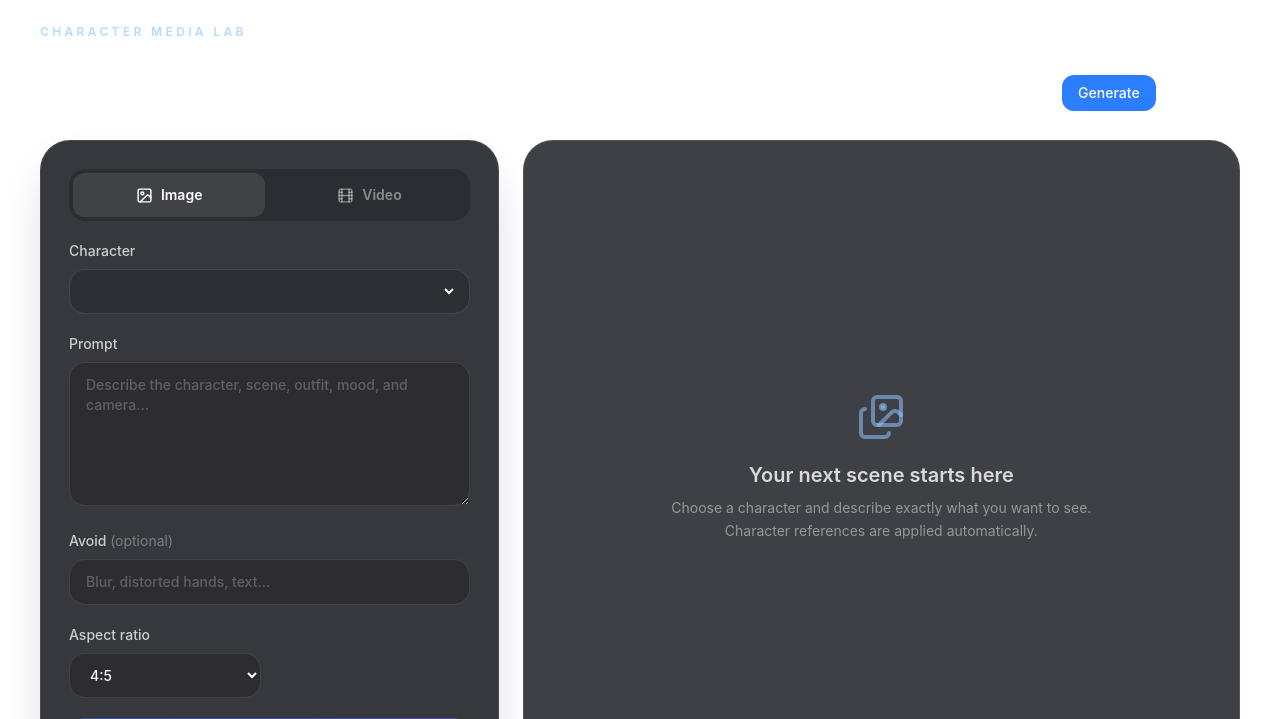
Test: OmniChatCreateWorkspace › publishes a private gallery creation to Explore
Click the button "gallery".
click(1195, 93)  # box [1156,75,1235,111]
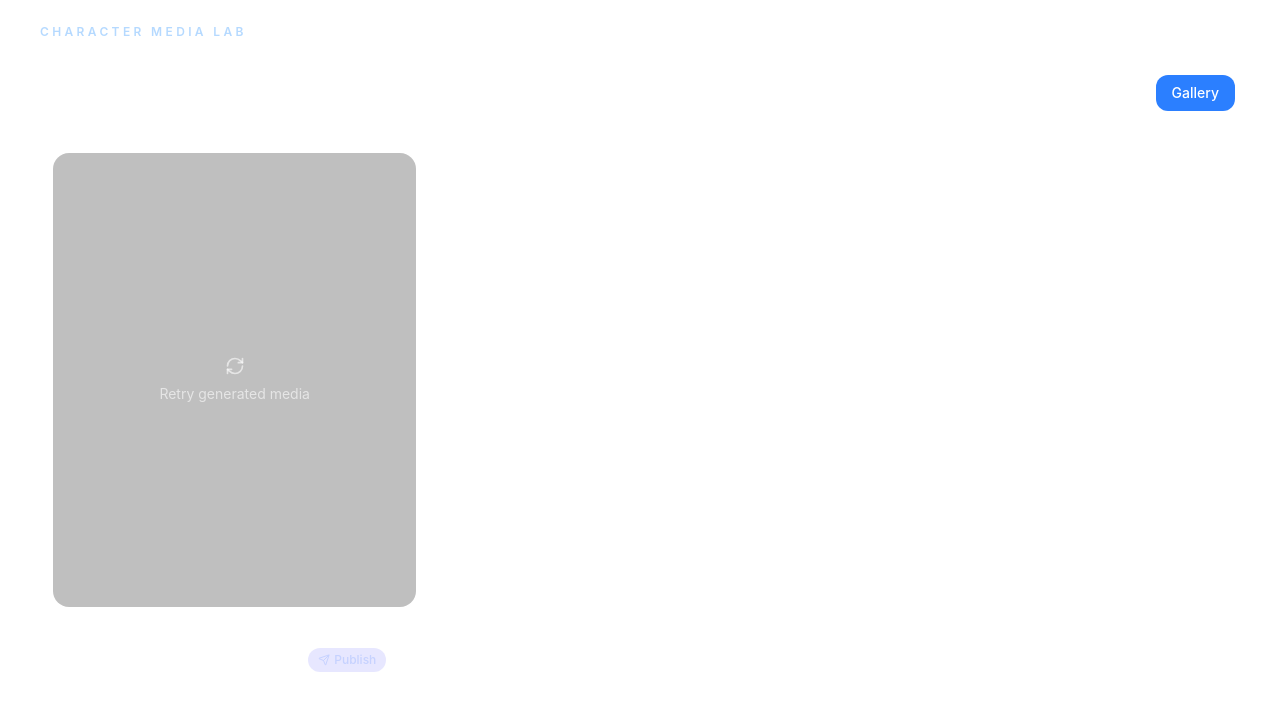
Click the button "Publish".
click(347, 660)  # box [308,648,386,672]
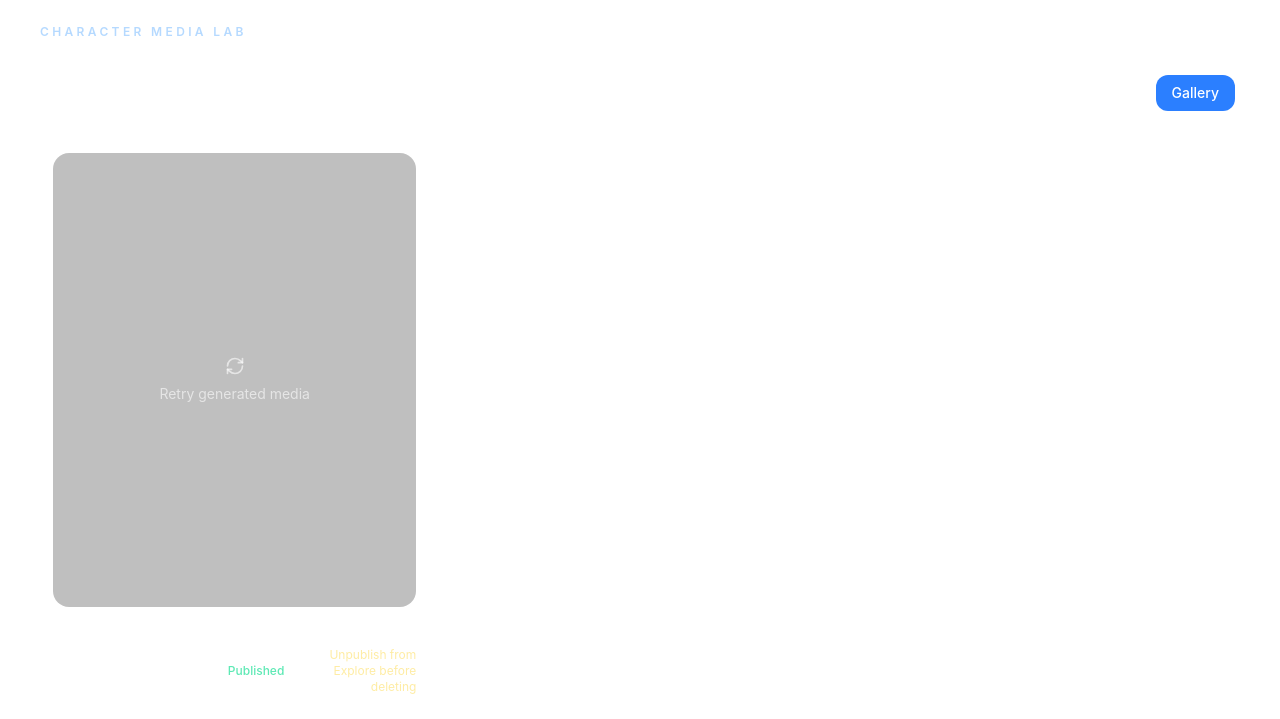
Expected: the text "Published" is shown, [228,663,284,679]
